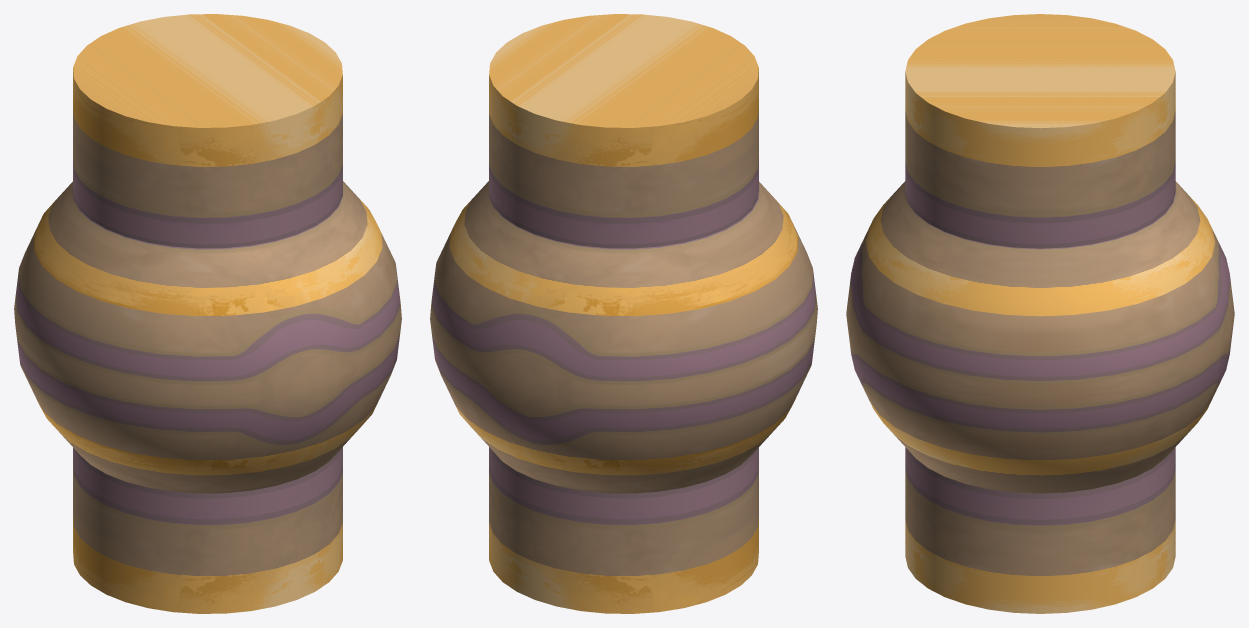
Rendered from EgyptianPillar.fbx.
The picture shows the model from 3 angles, left to right: view 1: azimuth 30°, elevation 25°; view 2: azimuth 150°, elevation 25°; view 3: azimuth 270°, elevation 25°; orthographic projection.
Parts seen in each view (by area): view 1: Cylinder; view 2: Cylinder; view 3: Cylinder.
Part boxes in pixels (bbox=[...]): Cylinder: bbox=[14, 14, 401, 613]; Cylinder: bbox=[430, 14, 817, 613]; Cylinder: bbox=[846, 14, 1234, 613].
Bounding box in the file's own units: 288 × 397 × 288.
1 material, 1 textured.
